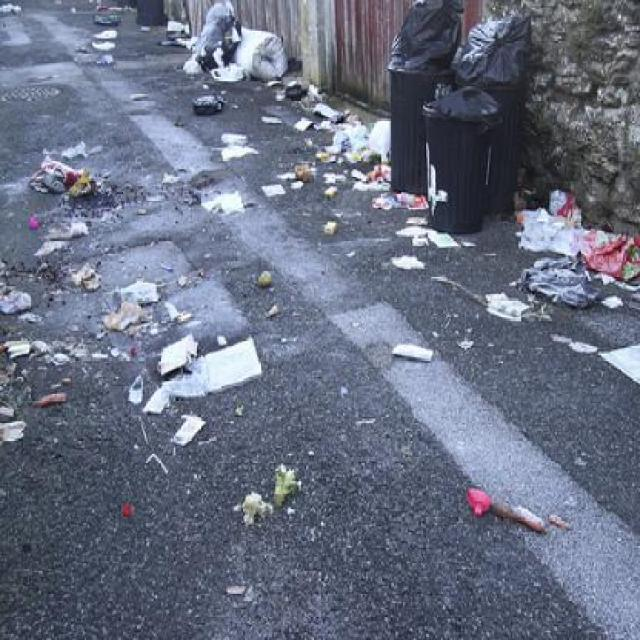garbage: (162, 2, 316, 121), (516, 188, 640, 328), (394, 2, 535, 123), (317, 103, 390, 197), (31, 155, 102, 248), (463, 485, 576, 542), (396, 190, 463, 276), (159, 339, 259, 389), (132, 377, 207, 434), (0, 257, 35, 371), (102, 285, 170, 339), (475, 286, 546, 328), (600, 339, 640, 410), (245, 465, 296, 516), (88, 3, 115, 68), (212, 129, 256, 160), (390, 333, 436, 360), (0, 394, 23, 442), (29, 389, 70, 406), (255, 270, 276, 293)
